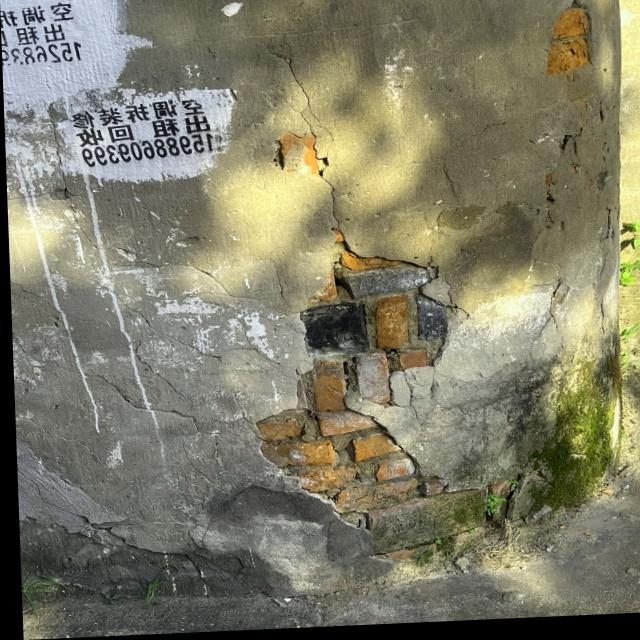crack: (31, 347, 233, 440)
spalling: (247, 239, 464, 522), (539, 0, 617, 86), (262, 114, 349, 188)
